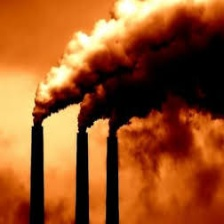smoke: (24, 4, 224, 130)
